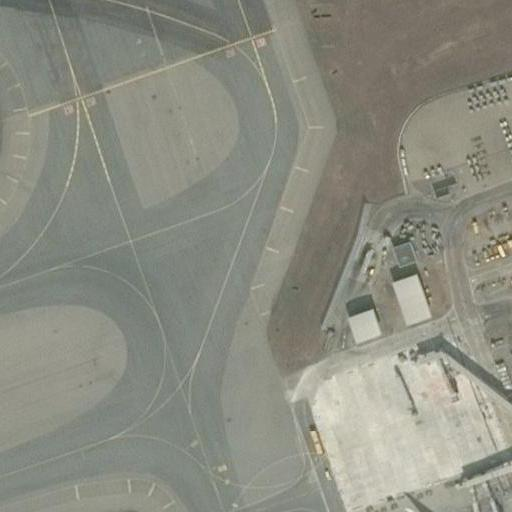Aircraft: (373, 495, 512, 512)
